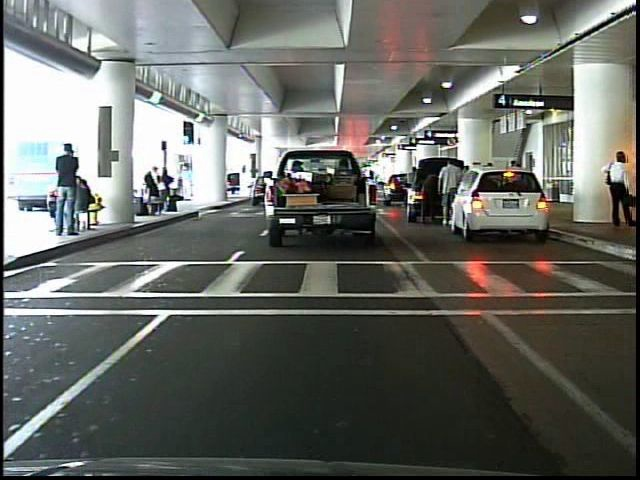person: (54, 138, 88, 239), (600, 146, 637, 233), (435, 157, 464, 230), (179, 161, 196, 203)
